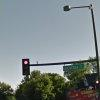Tree: (15, 70, 69, 99)
